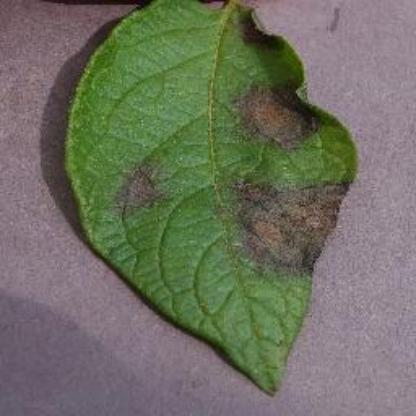Late-Blight: (52, 2, 388, 402)
